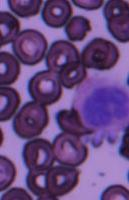N: (72, 73, 129, 130)
